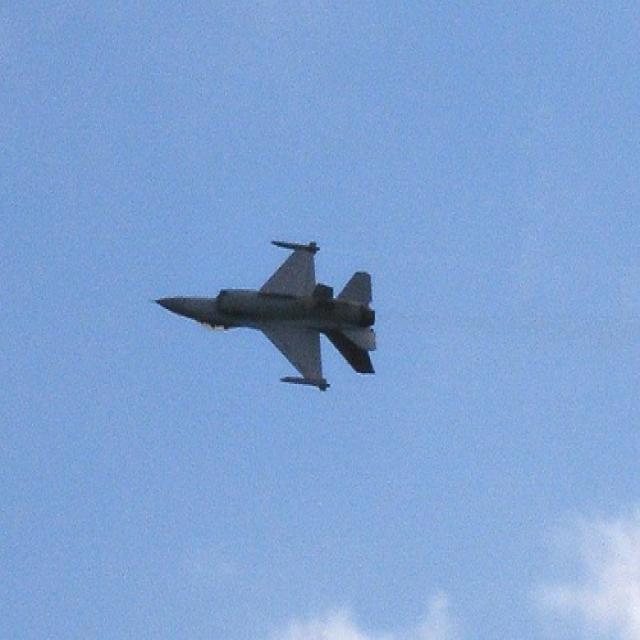aeroplane: (148, 238, 376, 393)
